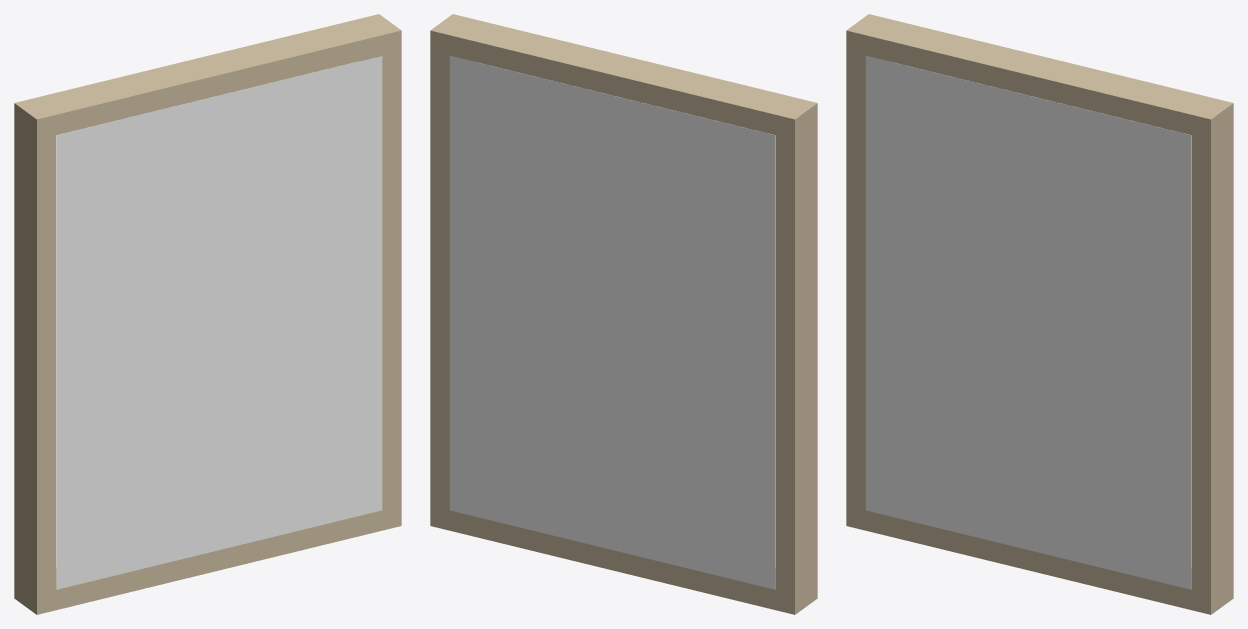
The model's file is product.glb.
3 views of the same model, side by side, from view 1: azimuth 30°, elevation 25°; view 2: azimuth 150°, elevation 25°; view 3: azimuth 330°, elevation 25° (orthographic).
Parts seen in each view (by area): view 1: Front, FrameLeft, FrameTop, FrameRight, FrameBottom; view 2: Back, FrameLeft, FrameTop, FrameRight, FrameBottom; view 3: Front, FrameRight, FrameTop, FrameLeft, FrameBottom.
Boxes of the visible parts, <box> form: Front: <box>56,56,382,589</box>; FrameLeft: <box>14,98,56,614</box>; FrameTop: <box>31,19,401,139</box>; FrameRight: <box>360,14,401,530</box>; FrameBottom: <box>37,505,401,614</box>; Back: <box>449,56,775,589</box>; FrameLeft: <box>775,98,817,614</box>; FrameTop: <box>430,19,816,138</box>; FrameRight: <box>430,14,471,530</box>; FrameBottom: <box>430,506,817,614</box>; Front: <box>865,56,1191,589</box>; FrameRight: <box>1191,98,1233,614</box>; FrameTop: <box>846,19,1232,138</box>; FrameLeft: <box>846,14,887,530</box>; FrameBottom: <box>846,506,1233,614</box>.
Bounding box in the file's own units: 1.68 × 2.18 × 0.182.
